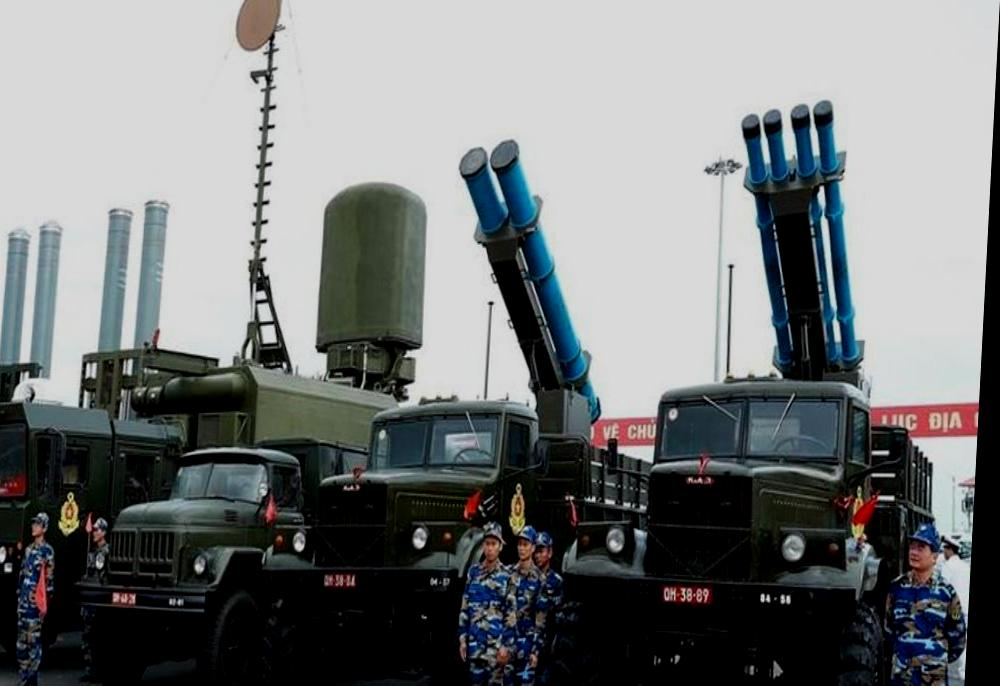License_Plate: (659, 585, 715, 611), (322, 572, 360, 591), (110, 589, 140, 607)
